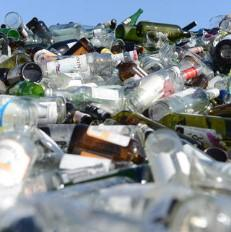glass: (24, 181, 174, 232), (144, 128, 229, 194), (146, 175, 231, 232), (19, 157, 142, 194), (0, 125, 54, 205), (65, 123, 146, 164), (142, 49, 214, 87), (0, 74, 93, 102), (0, 94, 65, 132), (122, 69, 175, 113), (56, 85, 127, 115), (147, 87, 212, 118), (47, 16, 119, 43), (43, 67, 119, 91), (24, 124, 65, 167), (133, 21, 193, 44), (40, 53, 93, 76), (139, 43, 181, 72), (145, 128, 184, 158), (2, 61, 45, 87), (86, 52, 122, 83), (102, 123, 149, 146), (62, 102, 107, 125), (156, 66, 186, 97), (91, 48, 139, 65), (115, 60, 148, 84), (180, 29, 216, 51), (210, 34, 230, 72), (26, 17, 54, 44), (92, 33, 127, 53), (201, 27, 230, 49), (64, 37, 96, 56), (9, 80, 47, 96), (0, 52, 31, 70), (109, 40, 145, 55), (49, 22, 90, 35), (45, 73, 75, 90), (47, 39, 79, 54), (144, 31, 166, 50), (210, 14, 231, 33), (123, 8, 144, 26), (141, 58, 165, 73), (4, 11, 23, 28), (28, 46, 48, 62), (6, 39, 26, 53), (0, 28, 21, 41)
